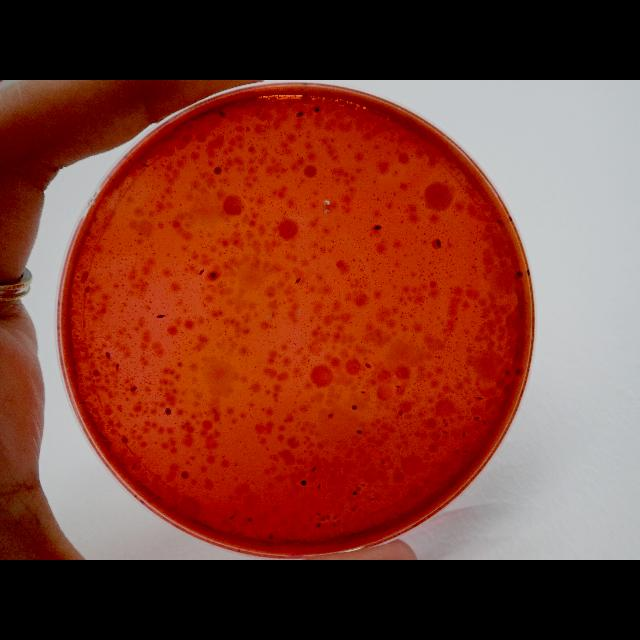colony: (373, 224, 383, 232), (214, 167, 222, 176), (164, 407, 172, 415), (218, 111, 226, 119), (296, 110, 304, 118), (436, 238, 442, 248), (157, 314, 166, 320), (122, 436, 128, 444), (182, 471, 188, 479), (140, 162, 148, 168), (497, 218, 503, 226), (517, 270, 523, 278), (398, 408, 404, 416), (364, 363, 372, 369), (93, 369, 99, 376), (115, 362, 119, 372), (130, 386, 136, 392), (229, 514, 235, 520), (316, 522, 322, 528), (352, 490, 358, 496), (301, 480, 307, 486), (314, 107, 320, 113), (516, 368, 522, 374), (352, 405, 358, 411), (84, 286, 90, 292), (295, 278, 301, 284), (210, 272, 216, 278), (106, 351, 110, 359), (131, 462, 135, 470), (526, 268, 530, 276), (317, 484, 321, 491), (474, 417, 481, 421), (248, 516, 252, 522), (332, 521, 336, 527), (326, 514, 330, 520), (312, 466, 316, 472), (477, 396, 483, 400), (505, 370, 509, 376), (482, 419, 486, 425), (462, 432, 466, 438), (442, 430, 448, 434), (356, 430, 362, 434), (360, 390, 366, 394), (198, 270, 204, 274), (115, 183, 118, 189), (316, 512, 320, 516), (334, 515, 338, 519), (337, 519, 341, 523), (354, 504, 358, 508), (444, 423, 448, 427), (442, 418, 446, 422), (360, 484, 366, 486), (395, 386, 401, 388), (370, 498, 374, 500), (328, 414, 332, 416)
